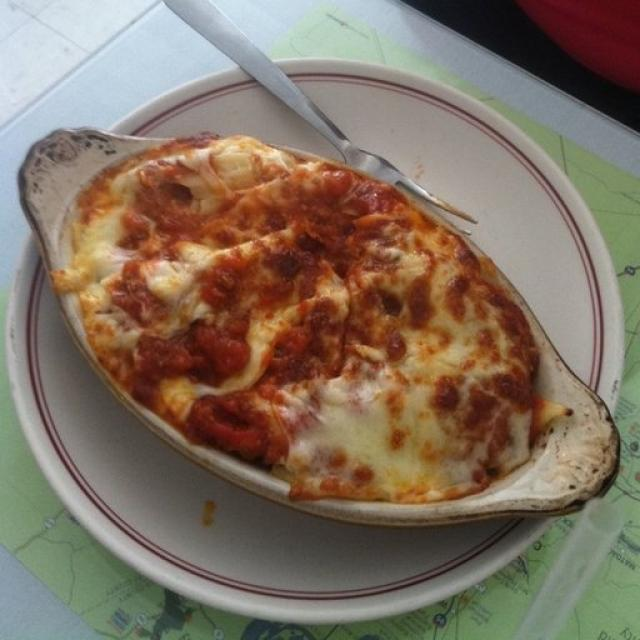Lasagna: (87, 145, 535, 529)
